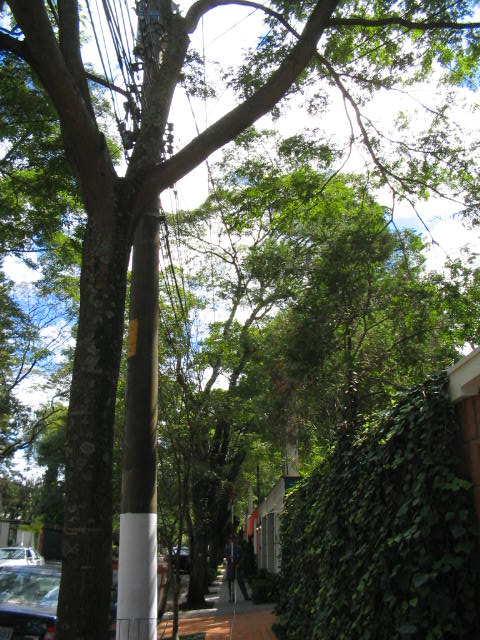stick: (225, 485, 242, 602)
